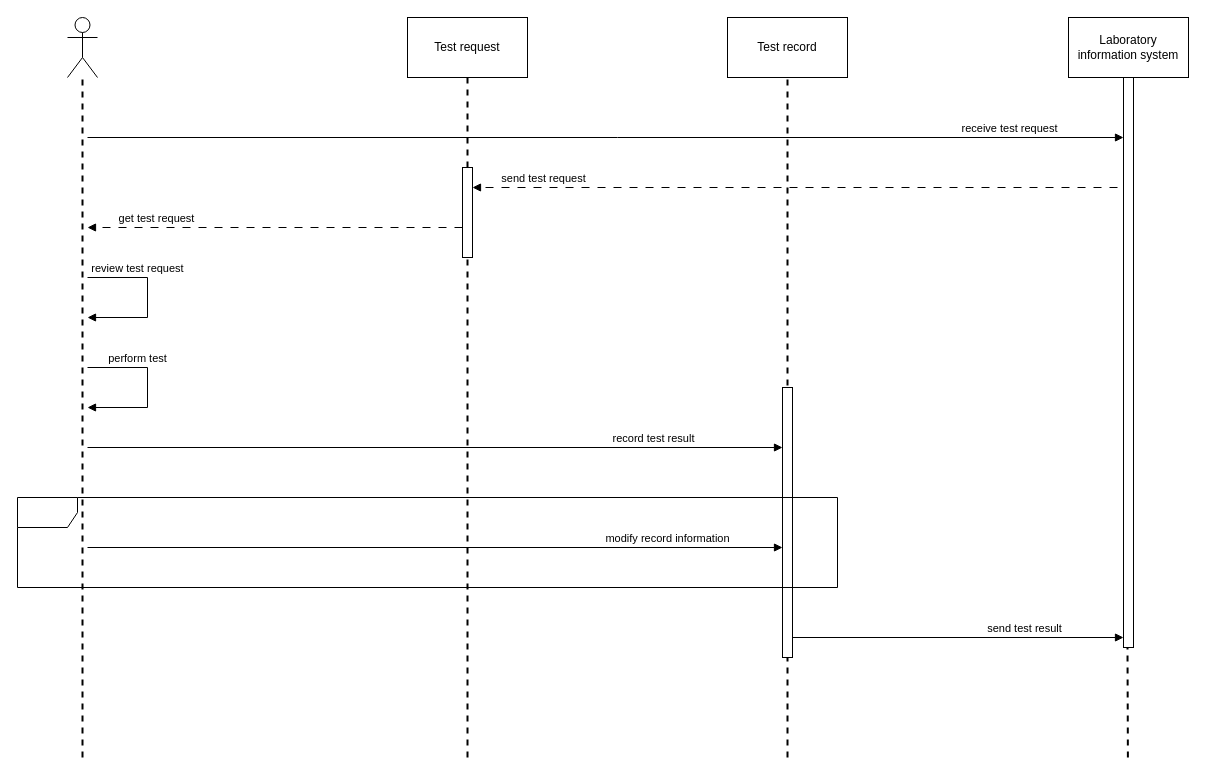
This 1206x777 diagram has some shape labels left out. Each missing label, with the centre of its shape:
"Laboratory Staff" belongs at point 82,47.
"Opt" belongs at point 427,542.
